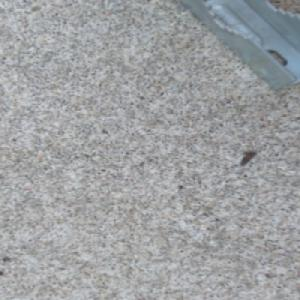ClampPart: (170, 0, 300, 93)
